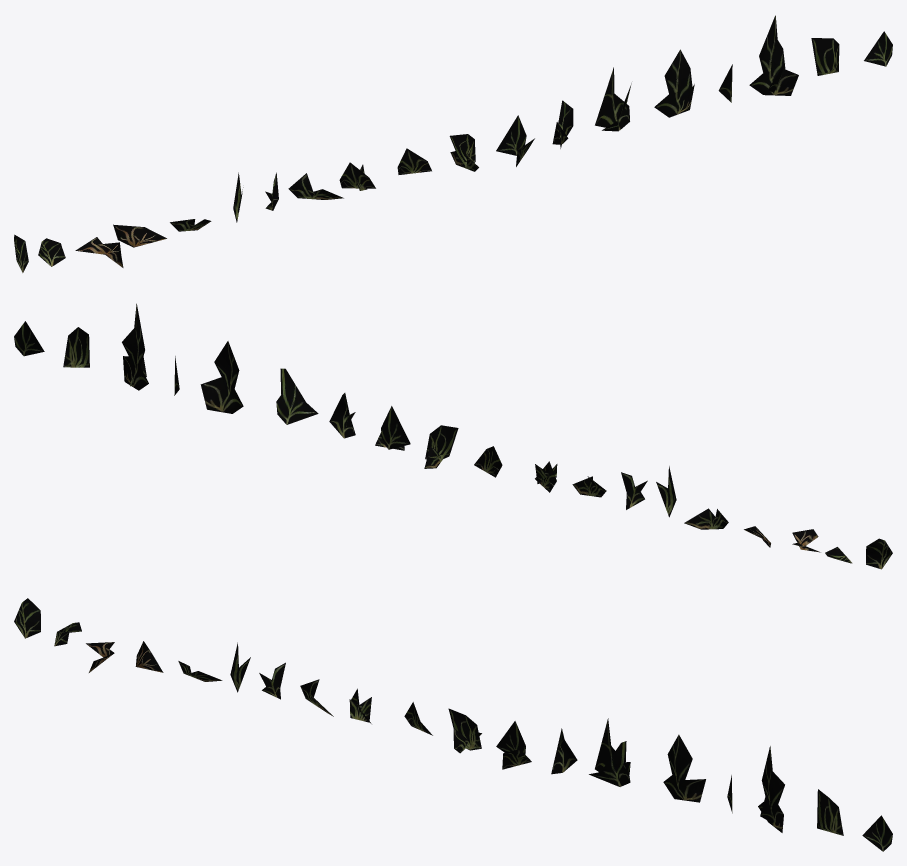
The model's file is grass_bermuda_01.glb.
The picture shows the model from 3 angles, top to bottom: view 1: azimuth 30°, elevation 25°; view 2: azimuth 150°, elevation 25°; view 3: azimuth 330°, elevation 25°; orthographic projection.
Parts seen in each view (by area): view 1: grass_bermuda_01_dead_a; view 2: grass_bermuda_01_dead_a; view 3: grass_bermuda_01_dead_a.
Part boxes in pixels (bbox=[...]): grass_bermuda_01_dead_a: bbox=[14, 15, 892, 272]; grass_bermuda_01_dead_a: bbox=[14, 303, 892, 569]; grass_bermuda_01_dead_a: bbox=[14, 598, 892, 851].
Bounding box in the file's own units: 1.61 × 0.1513 × 0.1082.
Materials: 1 (1 with a texture image).
